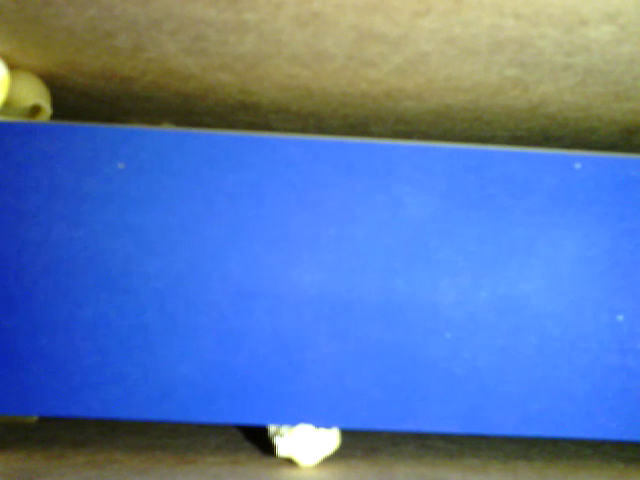shell: (3, 70, 66, 128)
